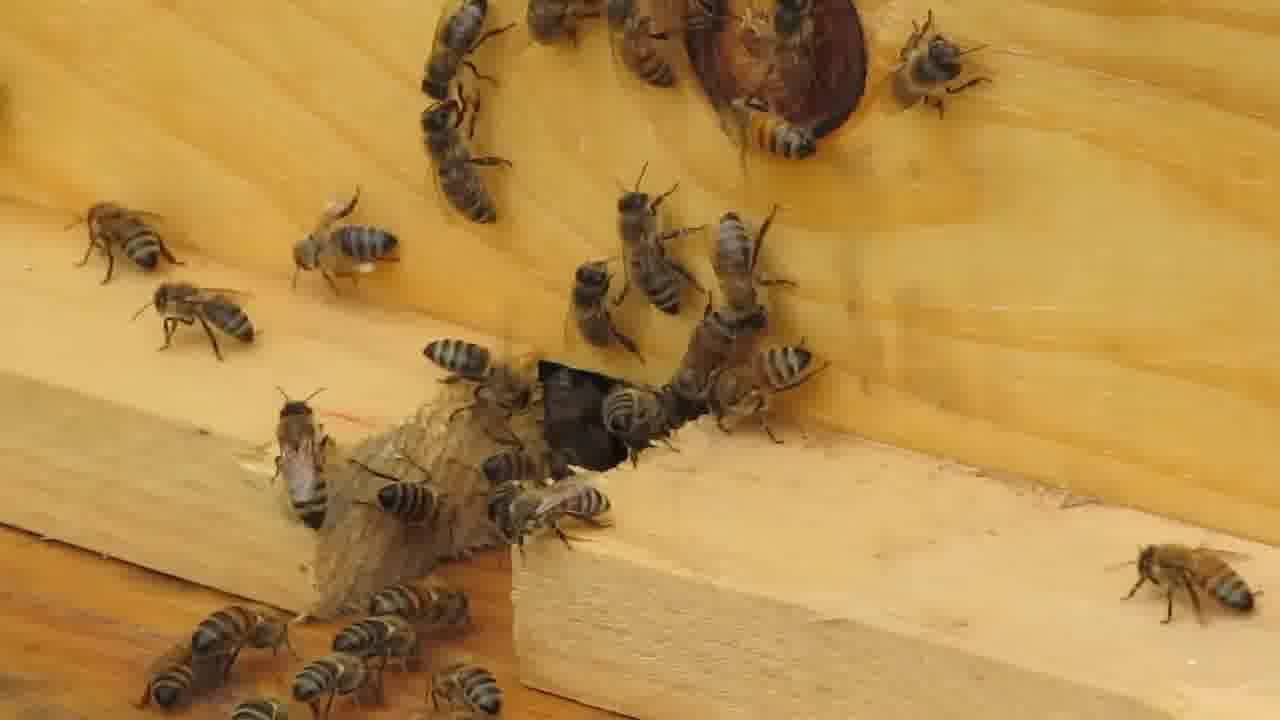pollen: (287, 201, 404, 295)
